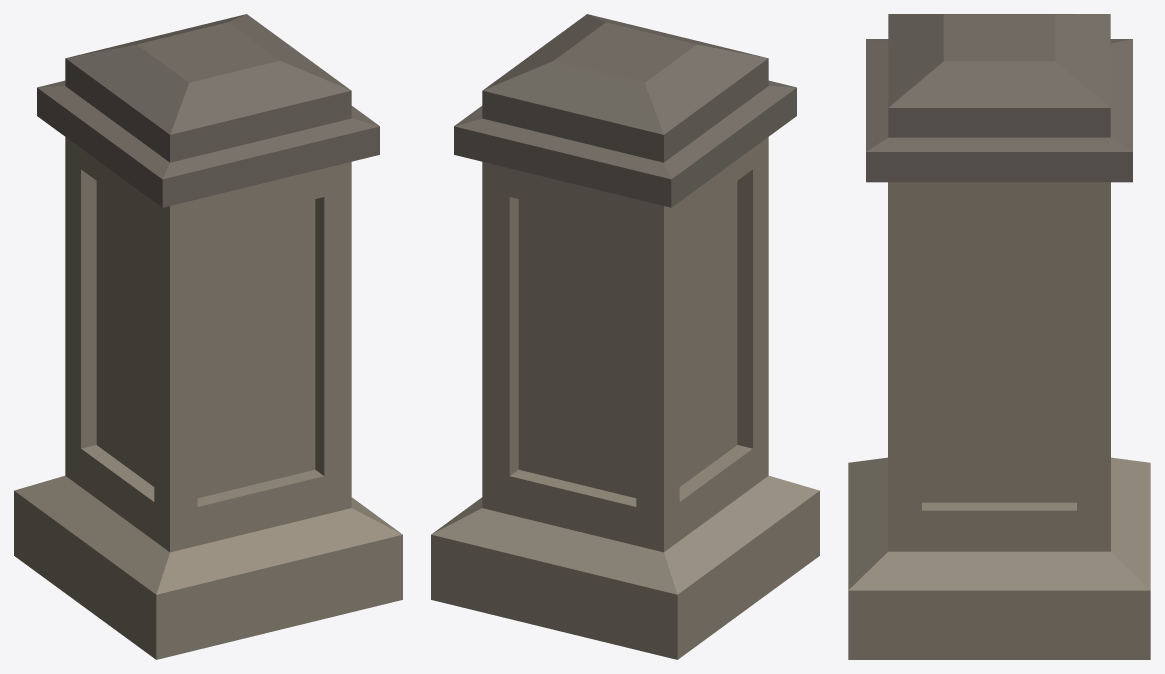
Rendered from SM_Bld_Stone_Wall_End_Top_01.glb.
The picture shows the model from 3 angles, left to right: view 1: azimuth 30°, elevation 25°; view 2: azimuth 150°, elevation 25°; view 3: azimuth 270°, elevation 25°; orthographic projection. The views are drawn at different scales.
Parts seen in each view (by area): view 1: SM_Bld_Stone_Wall_End_Top_01; view 2: SM_Bld_Stone_Wall_End_Top_01; view 3: SM_Bld_Stone_Wall_End_Top_01.
Part boxes in pixels (<box>): SM_Bld_Stone_Wall_End_Top_01: <box>14,14,402,659</box>; SM_Bld_Stone_Wall_End_Top_01: <box>431,14,819,659</box>; SM_Bld_Stone_Wall_End_Top_01: <box>848,14,1150,659</box>.
Size of the model in its own units: 0.00509 by 0.0104 by 0.00509.
Materials: 1 (1 with a texture image).
